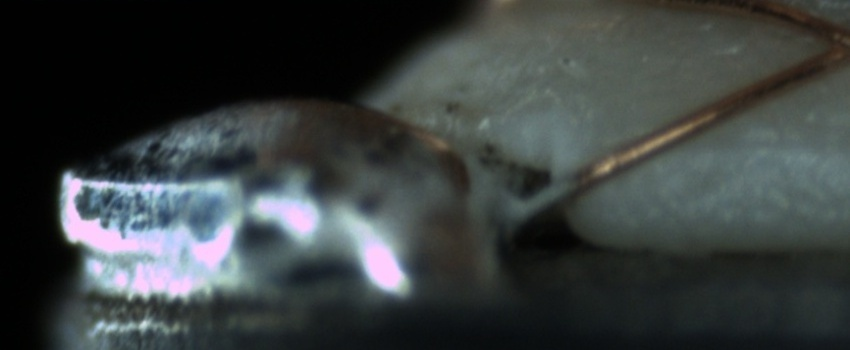CL: (801, 13, 850, 75)
DL: (678, 110, 850, 175)
